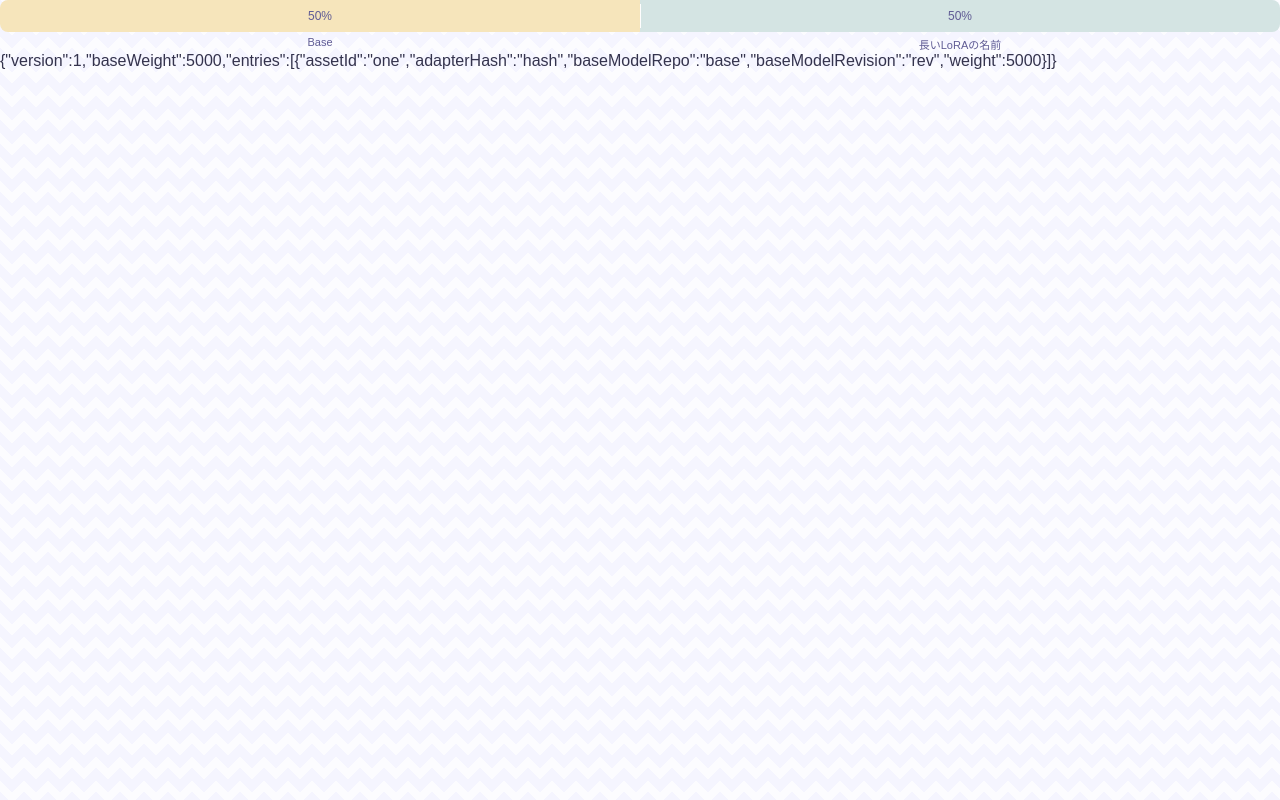
Scenario: specifies a percentage from the context menu, preserves invalid drafts, and removes only the mix entry
Right-click the 2nd element titled "長いLoRAの名前 50%": (960, 16) [640, 0, 1279, 32]
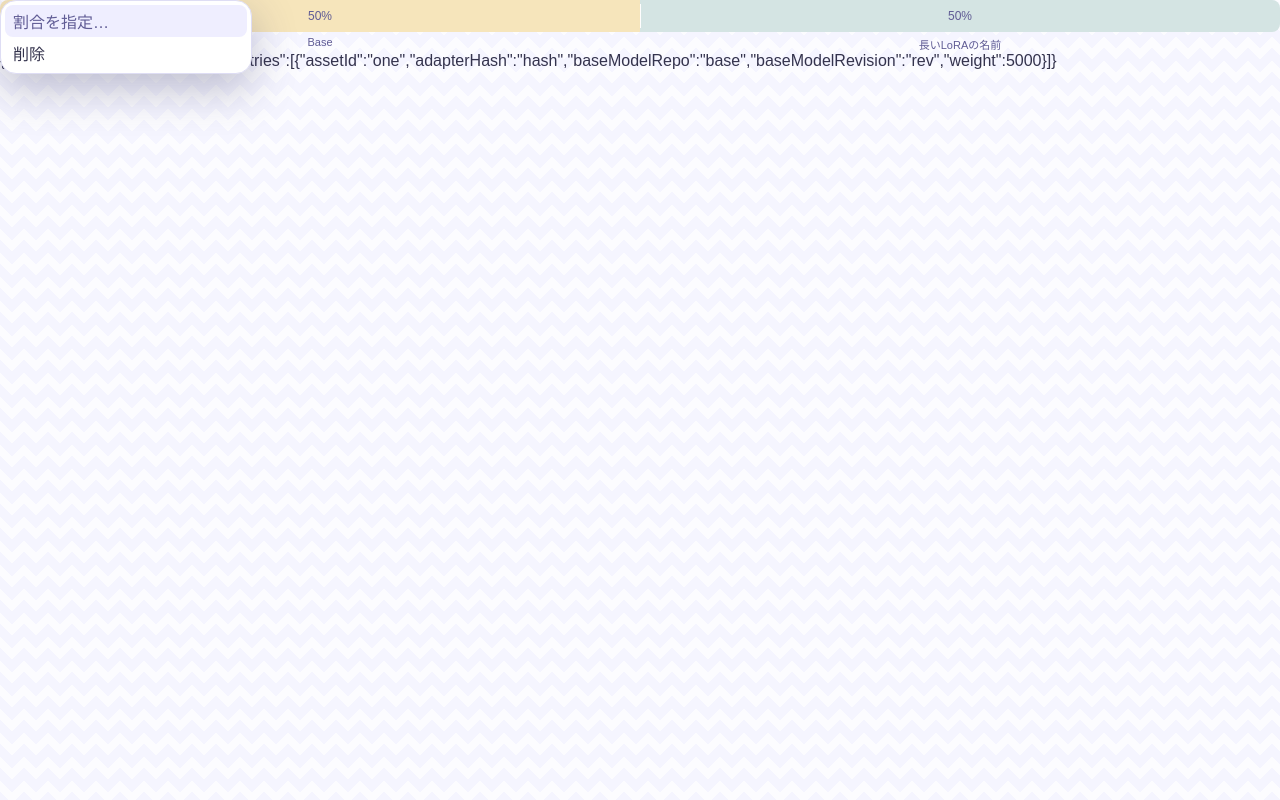
Click the menu item "割合を指定…": (126, 21) [5, 5, 247, 37]
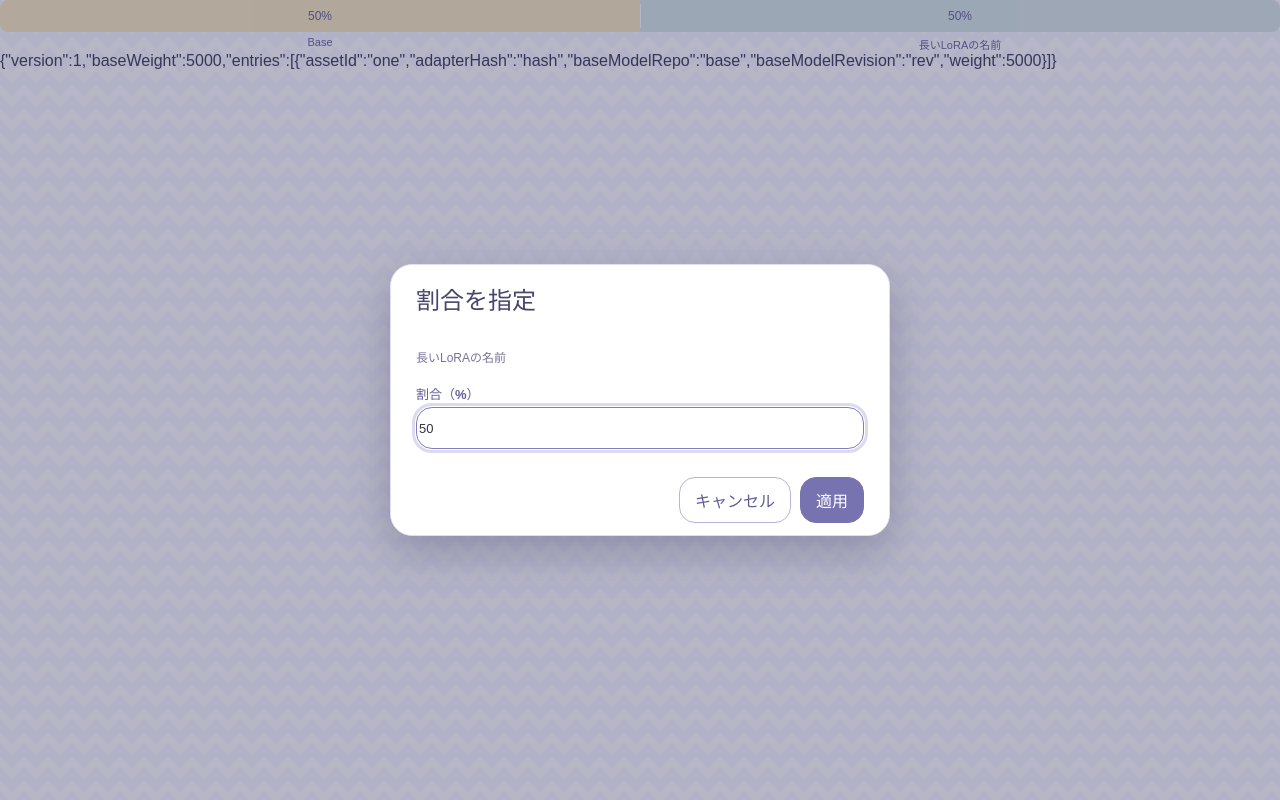
Replace the text in the field labelled "割合（%）" with "-": (640, 428) [416, 407, 864, 449]
Click the button "適用": (832, 500) [800, 477, 864, 523]
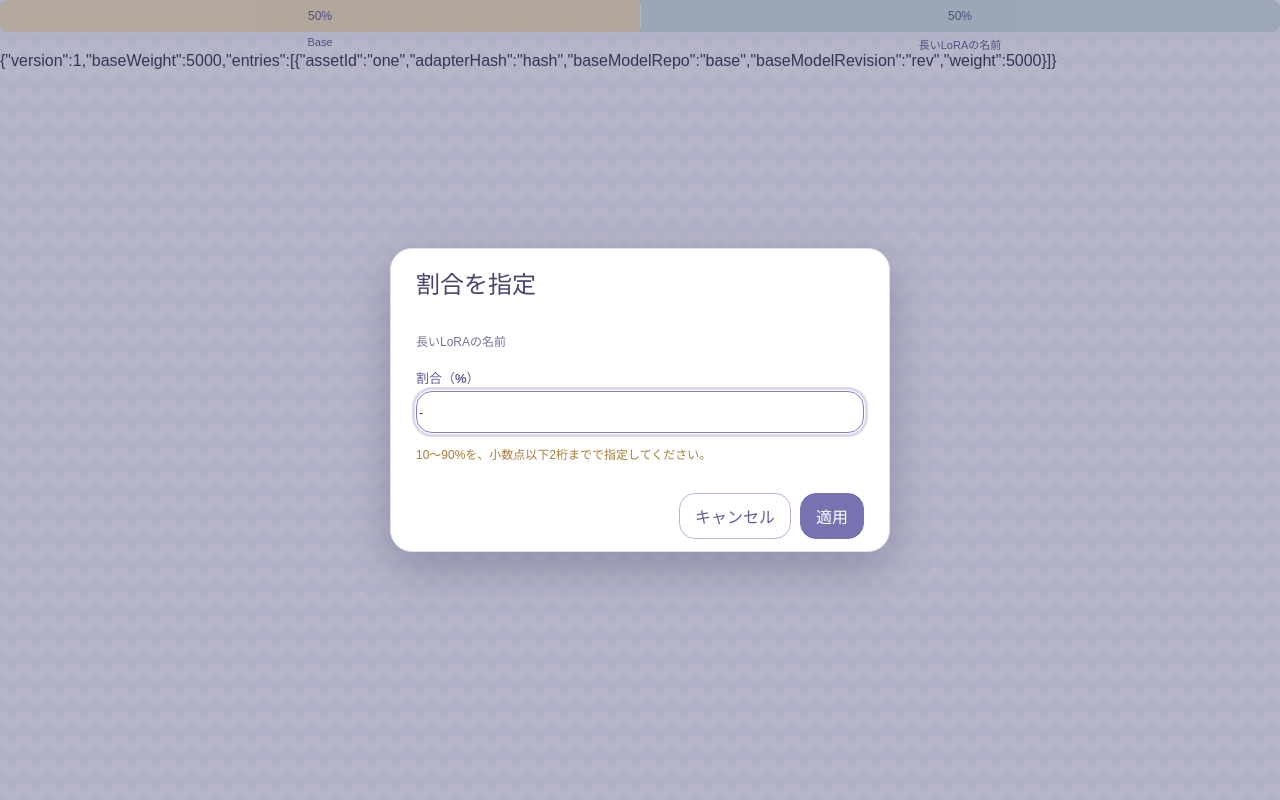
Check: the message "10〜90%を、小数点以下2桁までで指定してください。" is shown, box [416, 448, 711, 462]
Replace the text in the field labelled "割合（%）" with "75.25": (640, 412) [416, 391, 864, 433]
Click the button "適用": (832, 516) [800, 493, 864, 539]
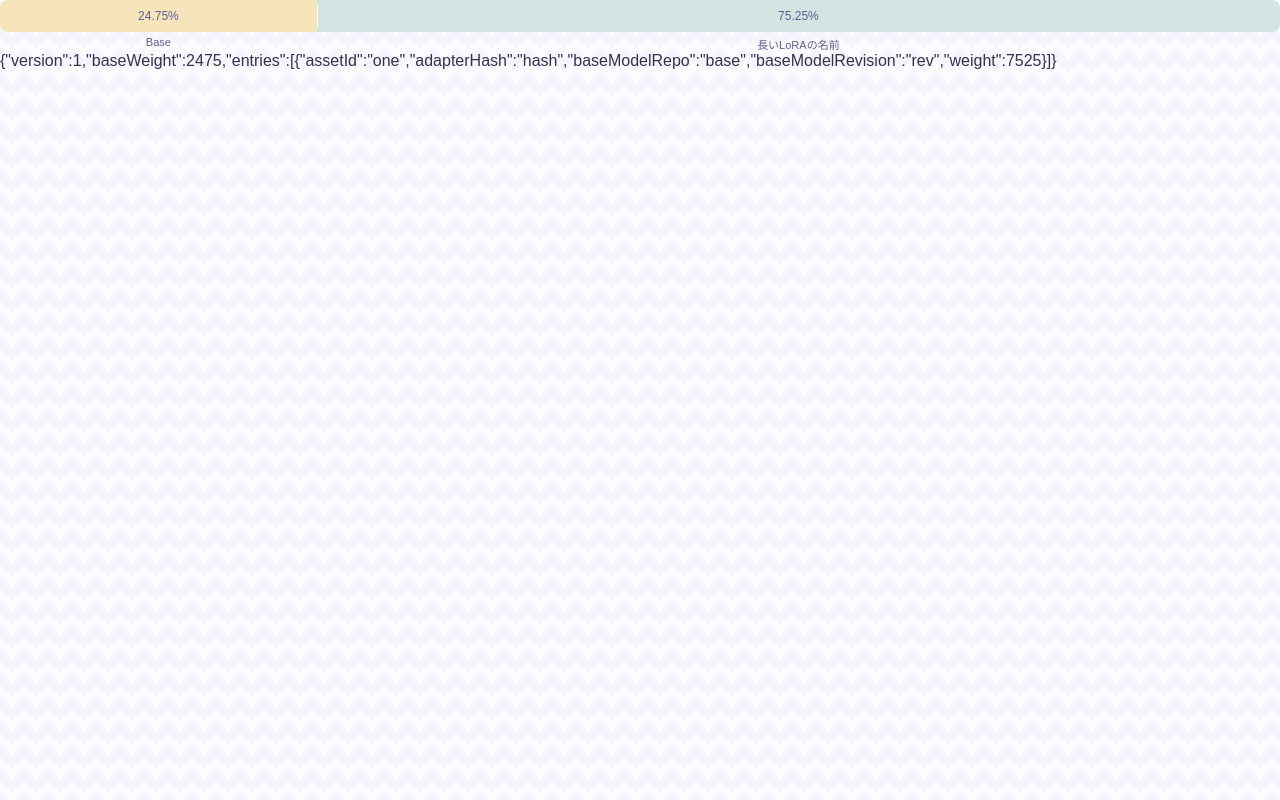
Check: the button "24.75%" is shown, box [138, 9, 179, 23]
Right-click the element titled "長いLoRAの名前 75.25%": (798, 16) [317, 0, 1279, 32]
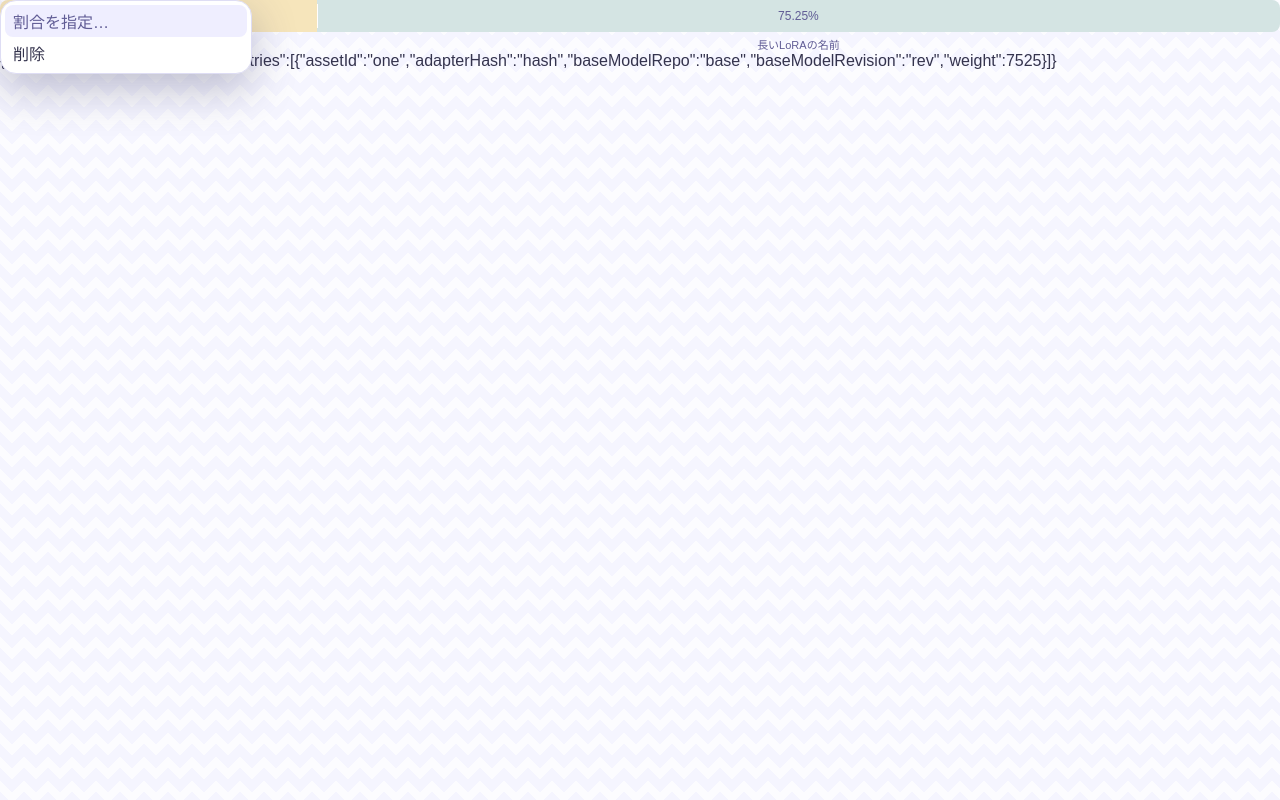
Click the menu item "削除": (126, 53) [5, 37, 247, 69]
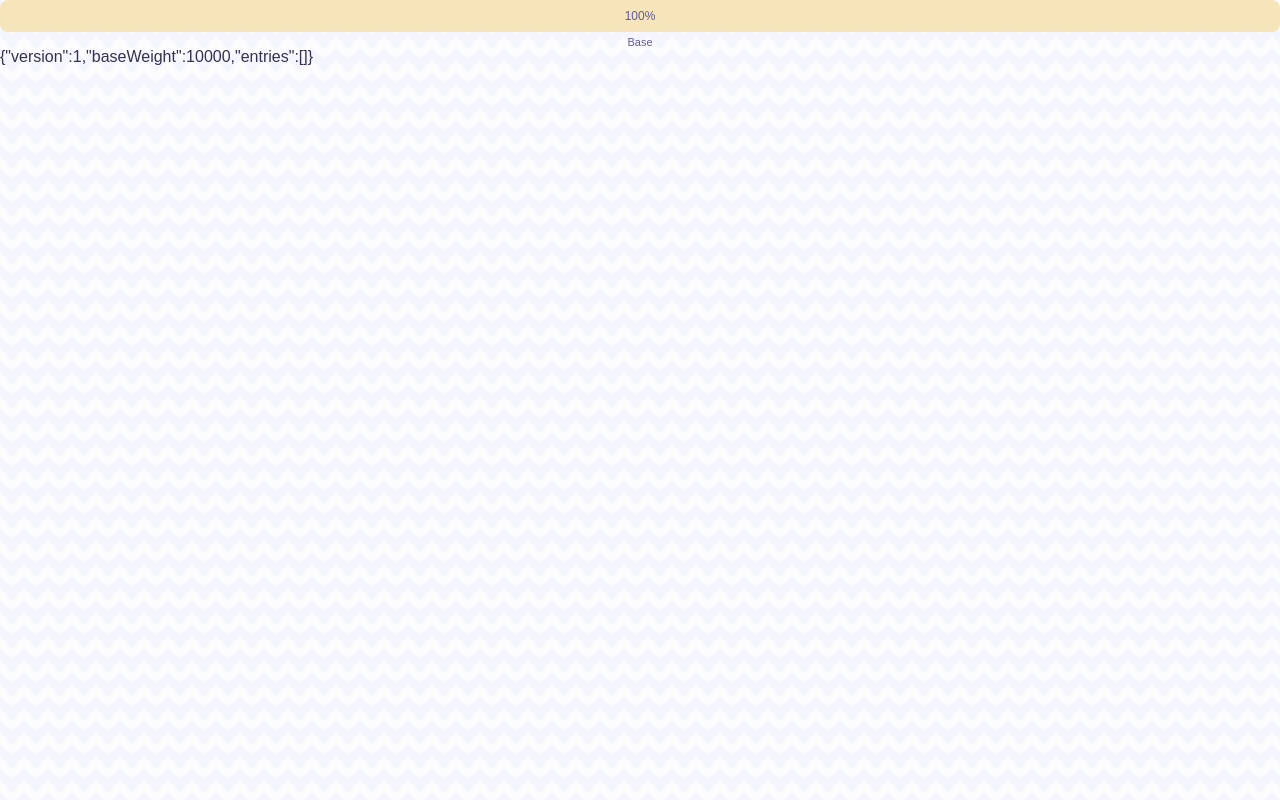
Check: the button "100%" is shown, box [625, 9, 655, 23]
